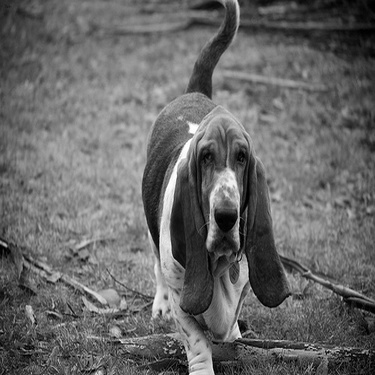dog: (133, 3, 297, 373)
